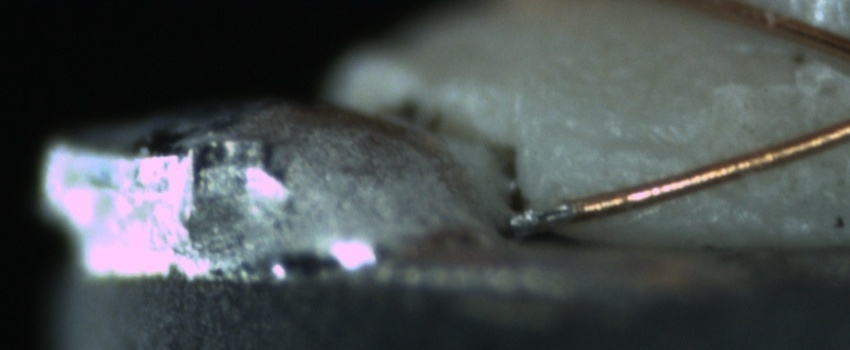DL: (569, 114, 701, 175)
TS: (508, 202, 577, 233)
